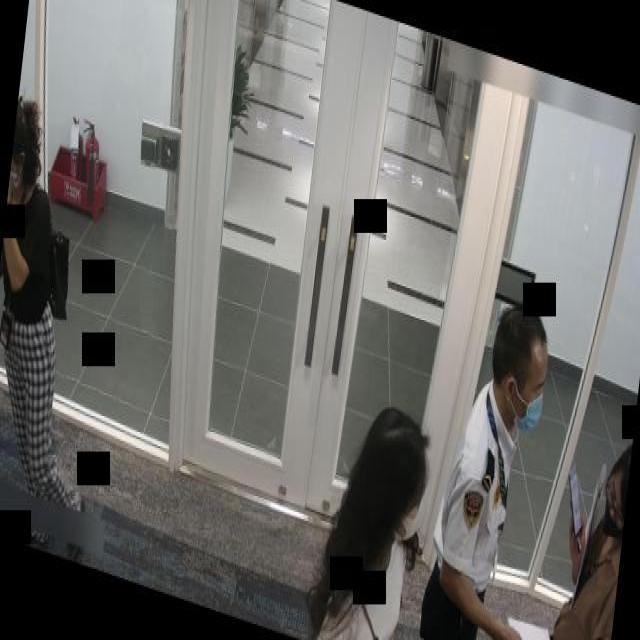hairnet: (602, 468, 629, 542)
